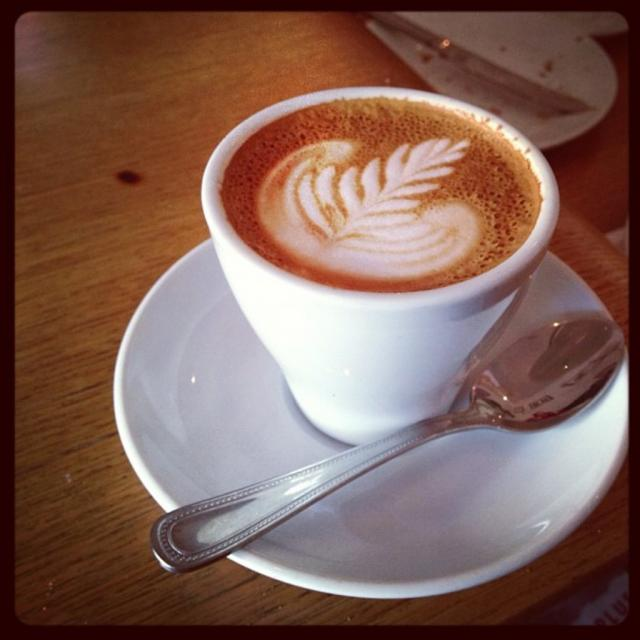latte: (201, 84, 561, 301)
